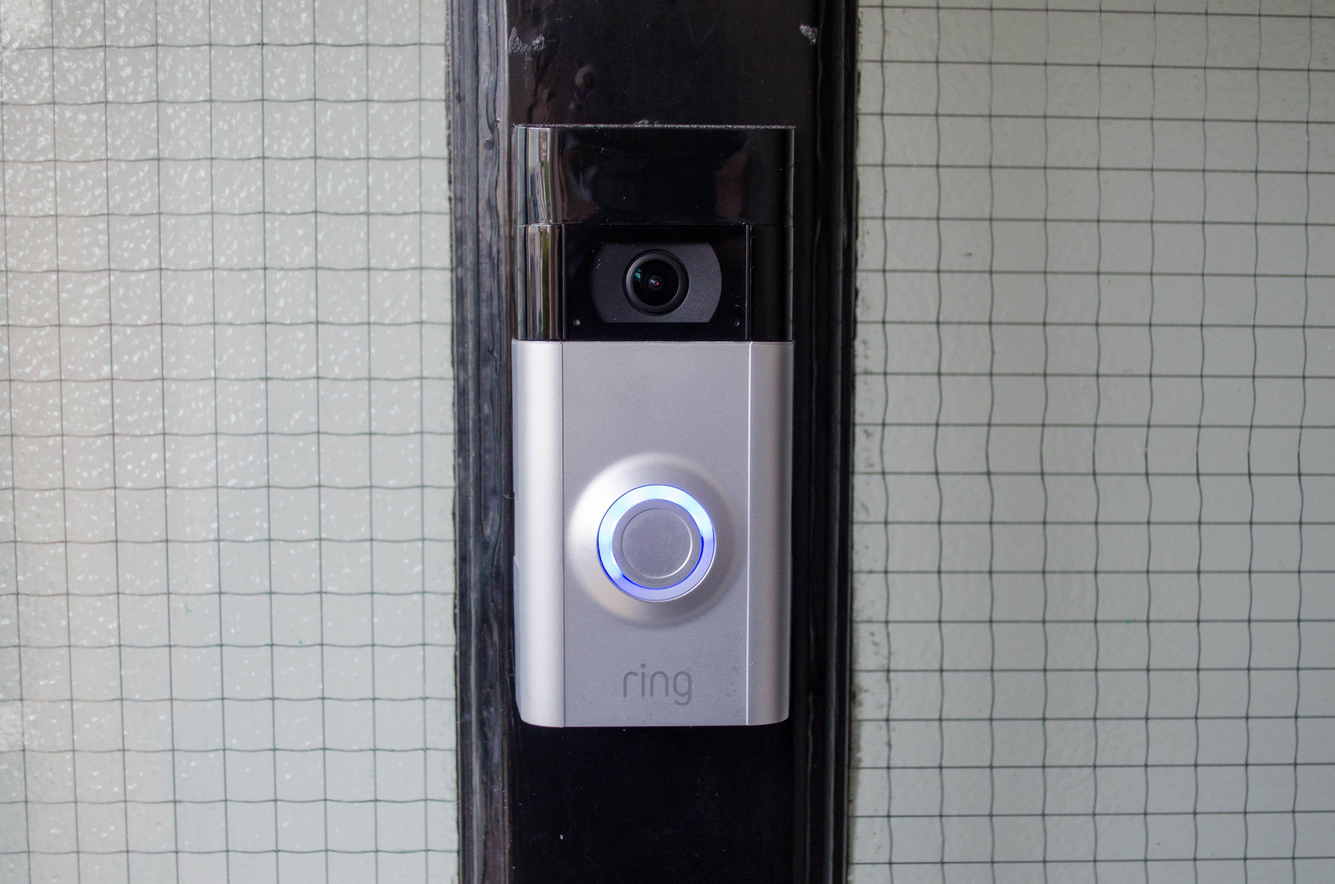doorbell: (509, 127, 792, 731)
